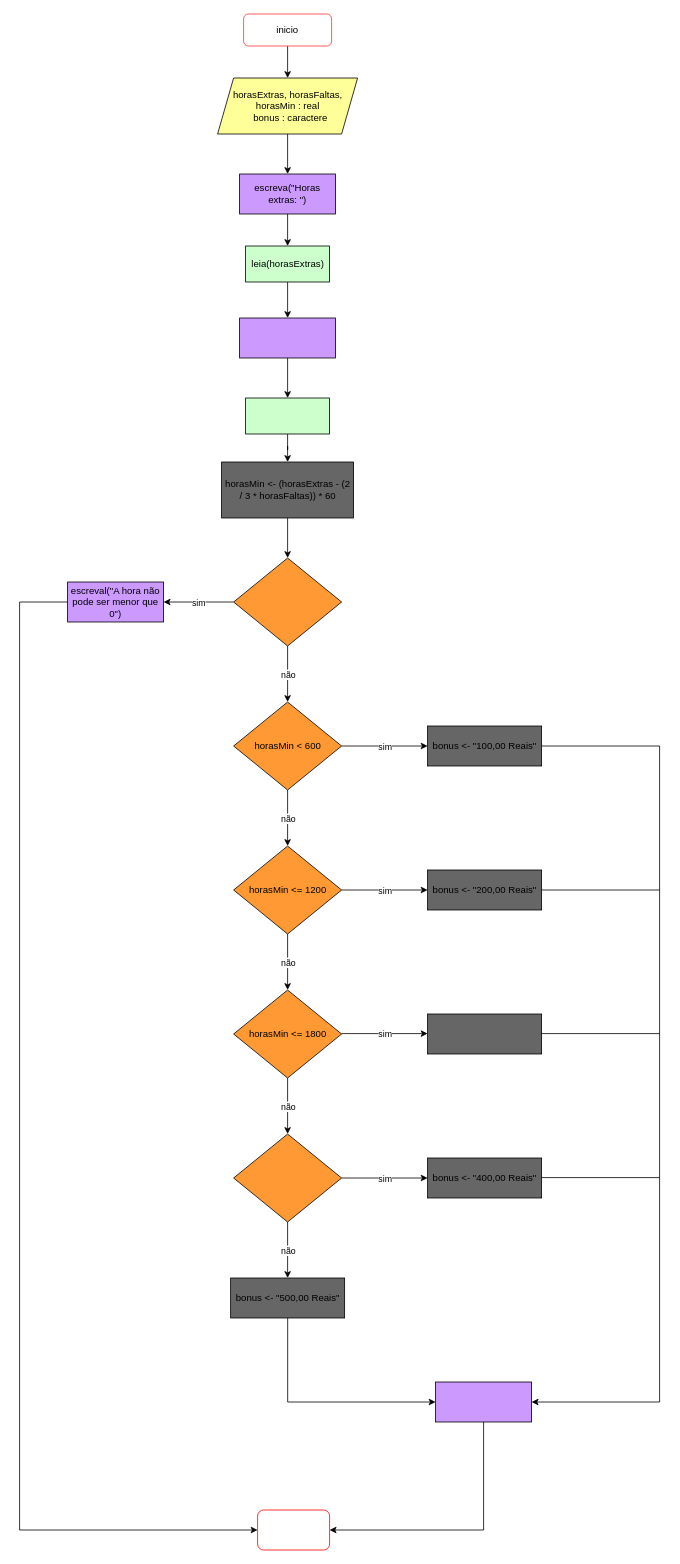
Some shapes in this 680 by 1564 pixel diagram are drawn without their labels. Here are the shapes that lost their labels. From the top down, the centre of each, then its label:
point 287,337: escreva("Horas que faltou ao trabalho: ")
point 287,415: leia(horasFaltas)
point 287,601: (horasExtras < 0) ou (horasFaltas < 0)
point 484,1033: bonus <- "300,00 Reais"
point 287,1177: horasMin <=2400
point 483,1401: escreval("O bonus a ser recebido é = ", bonus)
point 293,1529: fim
